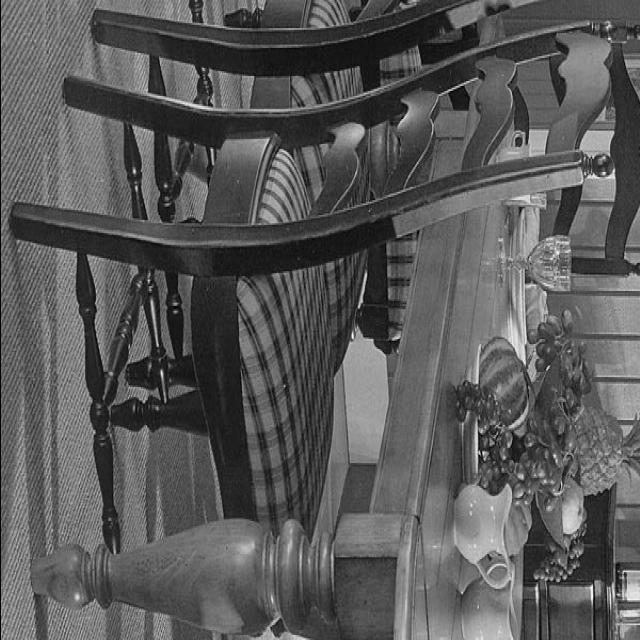chair: (8, 18, 620, 560)
